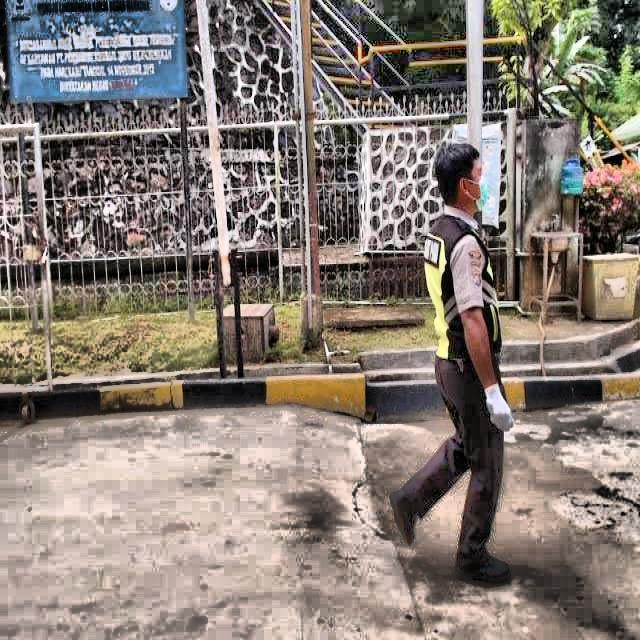safety_jacket: (425, 212, 504, 368)
